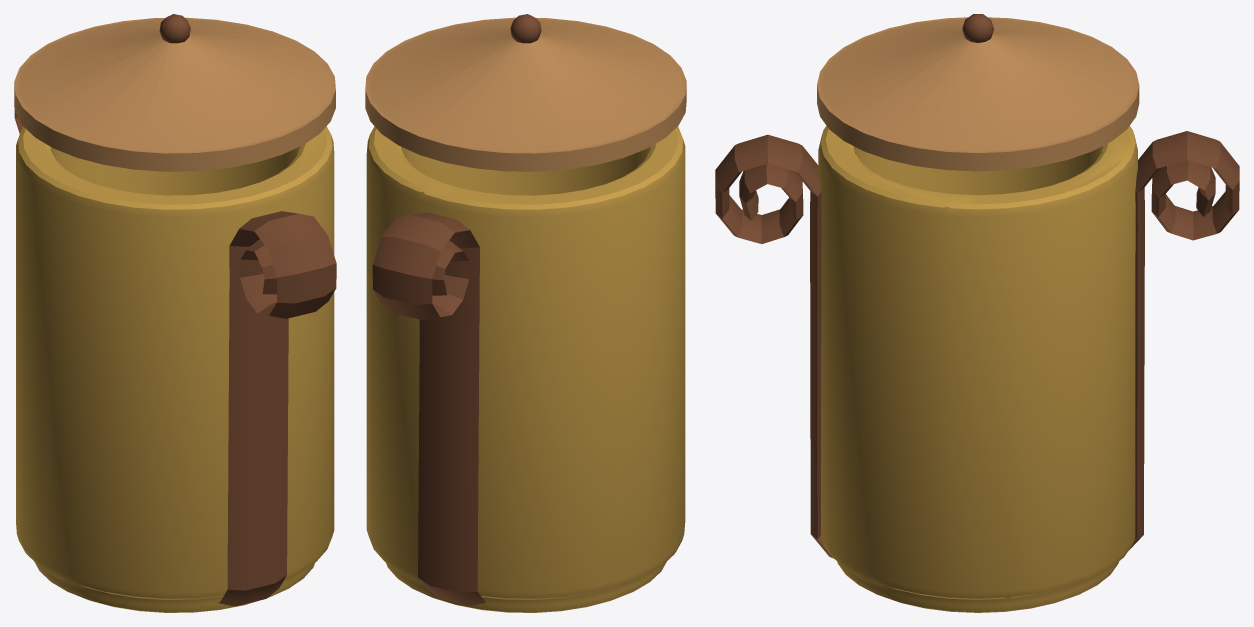
The model's file is trash_can_v1.fbx.
3 views of the same model, side by side, from view 1: azimuth 30°, elevation 25°; view 2: azimuth 150°, elevation 25°; view 3: azimuth 270°, elevation 25° (orthographic).
Visible parts, largest first — view 1: trashcan.001; view 2: trashcan.001; view 3: trashcan.001.
Part boxes in pixels (x1,y1,x2,y2): trashcan.001: (14, 14, 336, 612); trashcan.001: (365, 14, 686, 612); trashcan.001: (715, 14, 1239, 612).
Size of the model in its own units: 78.65 by 145 by 128.
